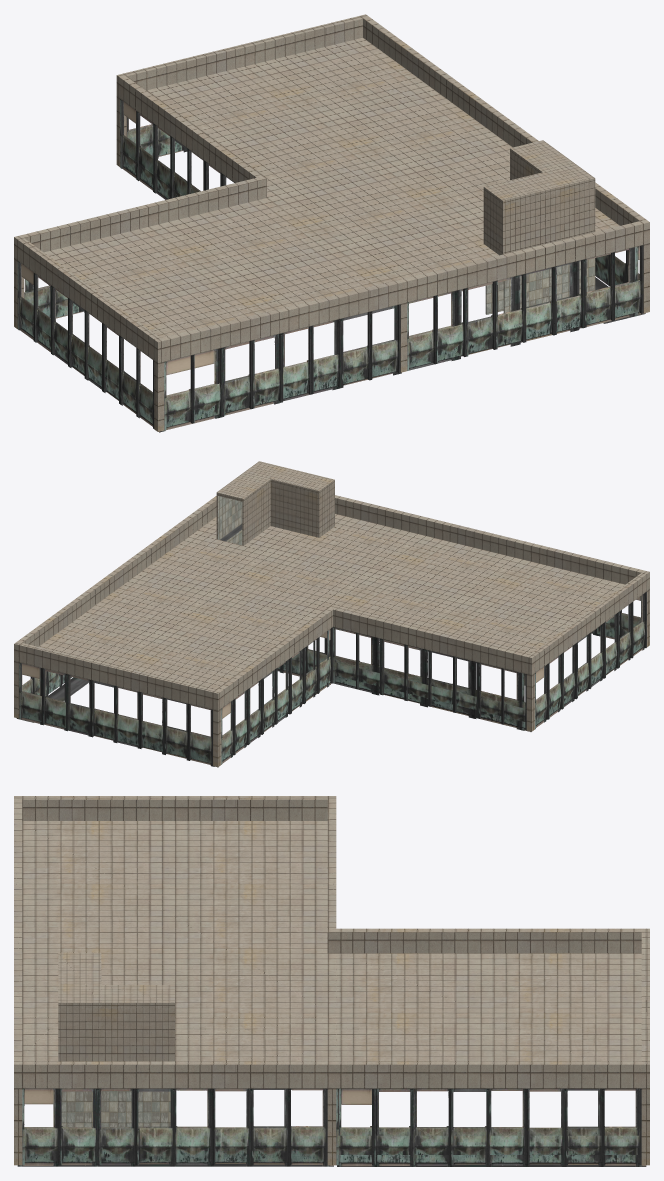
Rendered from BagSS09top_300.fbx.
3 renders of one model, top to bottom at view 1: azimuth 30°, elevation 25°; view 2: azimuth 150°, elevation 25°; view 3: azimuth 270°, elevation 25°, orthographic. The views are drawn at different scales.
Visible parts, largest first — view 1: topCrete300, topMain300, topBox300, topStairWell300; view 2: topCrete300, topMain300, topBox300, topStairWell300; view 3: topCrete300, topMain300, topBox300, topStairWell300.
Boxes of the visible parts, x1,y1,x2,y2 form: topCrete300: (14,14,649,431); topMain300: (17,99,643,430); topBox300: (19,102,645,432); topStairWell300: (485,258,595,314); topCrete300: (14,461,649,766); topMain300: (19,591,646,765); topBox300: (16,524,644,767); topStairWell300: (218,496,242,545); topCrete300: (14,796,649,1165); topMain300: (22,1088,641,1165); topBox300: (17,1088,646,1166); topStairWell300: (61,1090,170,1126).
Bounding box in the file's own units: 40.92 × 10.35 × 40.92.
